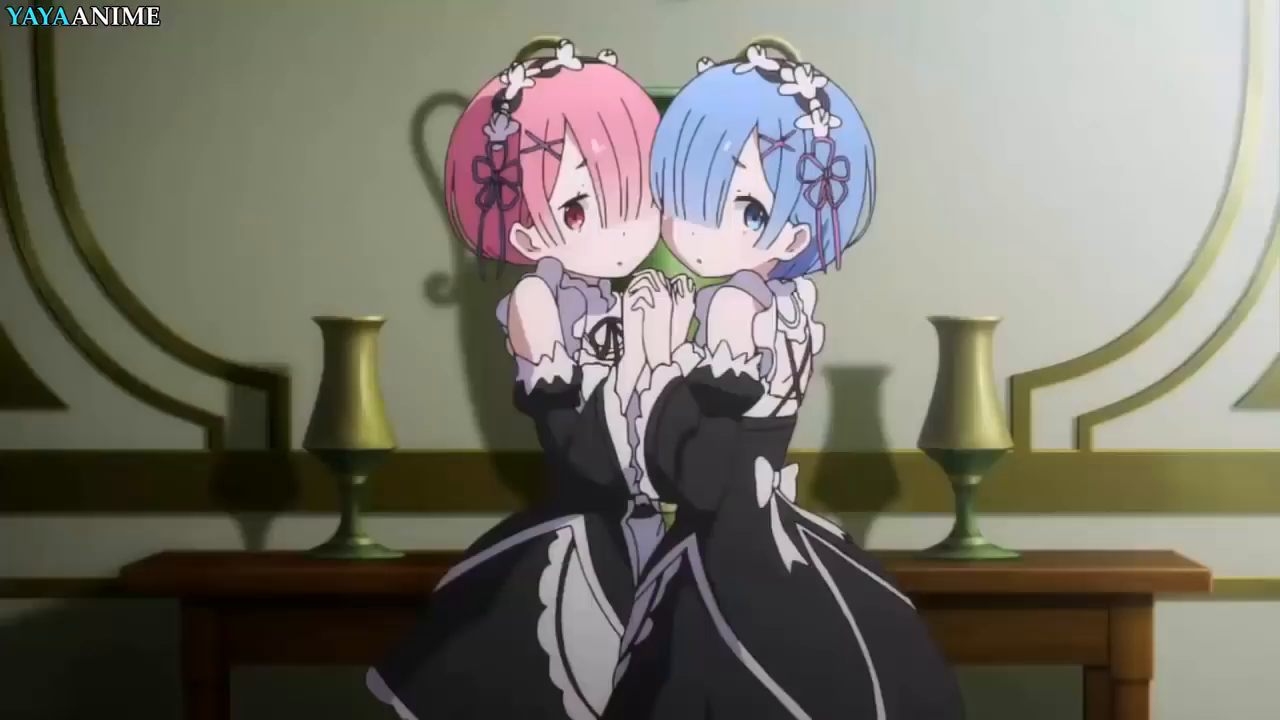REM: (650, 50, 883, 281)
